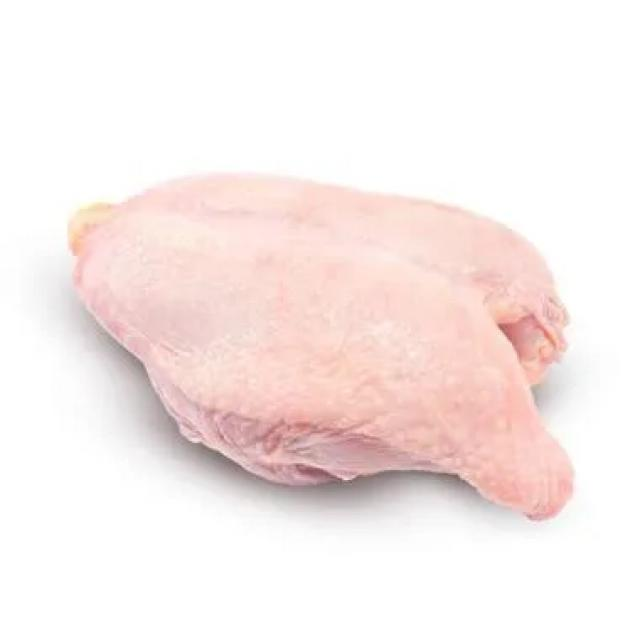chicken breast: (68, 175, 574, 519)
